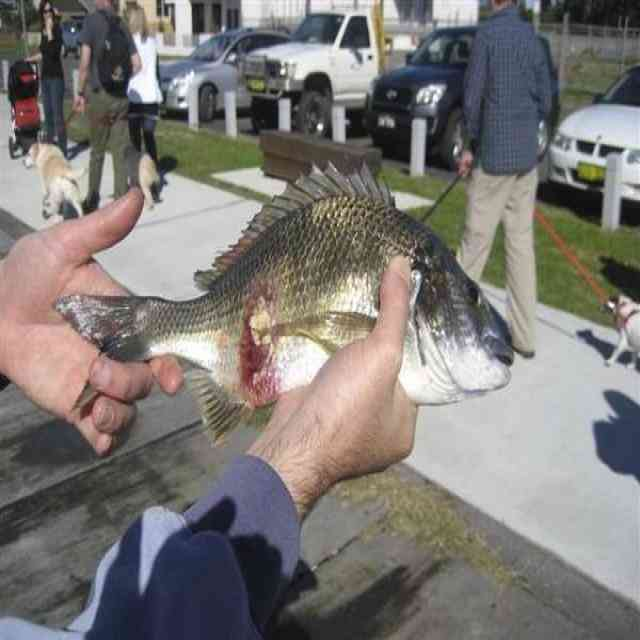EUS Disease: (61, 160, 518, 417), (204, 259, 317, 409)
